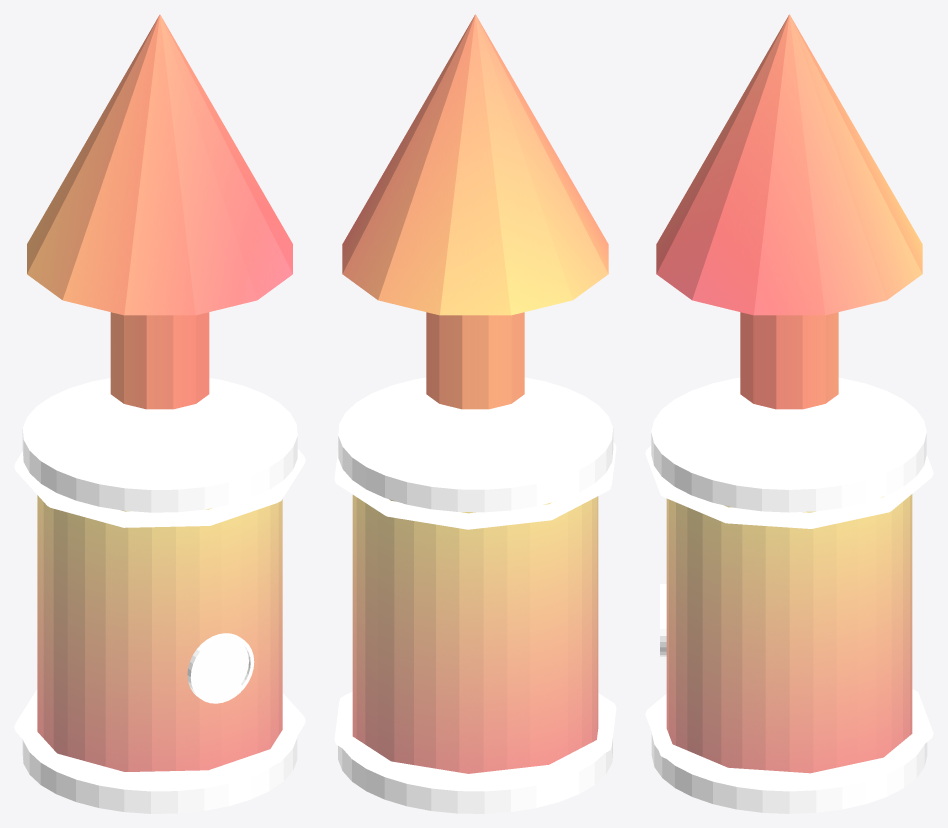
The model's file is teleporter.glb.
3 views of the same model, side by side, from view 1: azimuth 30°, elevation 25°; view 2: azimuth 150°, elevation 25°; view 3: azimuth 270°, elevation 25° (orthographic).
Visible parts, largest first — view 1: lightMulticolour, arrow, teleporter.001, teleporter, emissive.001, emissive, avgCheck; view 2: lightMulticolour, arrow, teleporter.001, teleporter, emissive.001, emissive; view 3: lightMulticolour, arrow, teleporter.001, teleporter, emissive.001, emissive.
Part boxes in pixels (<box>): lightMulticolour: <box>37,495,282,771</box>; arrow: <box>27,14,292,409</box>; teleporter.001: <box>22,378,297,512</box>; teleporter: <box>22,717,297,813</box>; emissive.001: <box>14,689,305,788</box>; emissive: <box>14,449,305,527</box>; avgCheck: <box>187,633,254,703</box>; lightMulticolour: <box>352,495,598,773</box>; arrow: <box>342,14,608,409</box>; teleporter.001: <box>338,377,613,512</box>; teleporter: <box>338,712,612,813</box>; emissive.001: <box>334,691,616,790</box>; emissive: <box>334,442,616,529</box>; lightMulticolour: <box>666,494,912,773</box>; arrow: <box>656,14,922,409</box>; teleporter.001: <box>651,377,926,512</box>; teleporter: <box>651,714,927,813</box>; emissive.001: <box>645,689,933,789</box>; emissive: <box>645,446,933,528</box>.
Size of what is drawn, in the model's own units: 3.15 by 8.93 by 3.15.
Materials: 4 (2 with a texture image).
